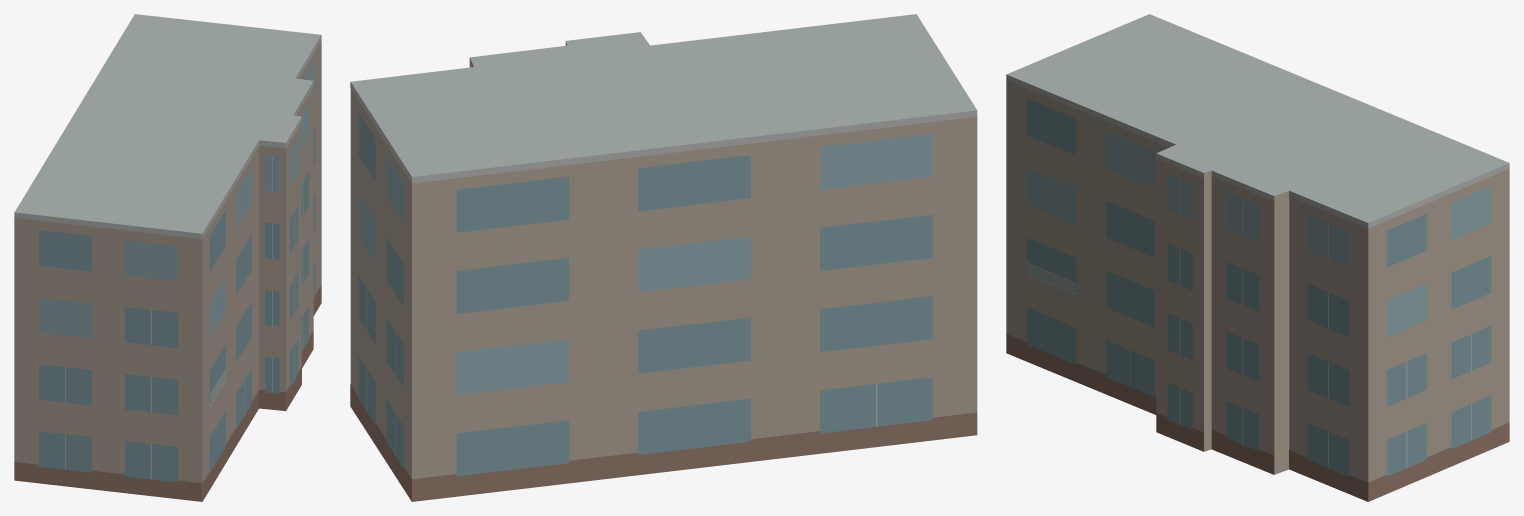
Rendered from survey-upis-32550714.glb.
The picture shows the model from 3 angles, left to right: view 1: azimuth 30°, elevation 25°; view 2: azimuth 150°, elevation 25°; view 3: azimuth 270°, elevation 25°; orthographic projection. The views are drawn at different scales.
Visible parts, largest first — view 1: survey-upis-32550714.tmp; view 2: survey-upis-32550714.tmp; view 3: survey-upis-32550714.tmp.
Boxes of the visible parts, <box> form: survey-upis-32550714.tmp: <box>14,14,321,501</box>; survey-upis-32550714.tmp: <box>350,14,977,501</box>; survey-upis-32550714.tmp: <box>1006,14,1509,501</box>.
Size of the model in its own units: 19.64 by 12.2 by 19.97.
